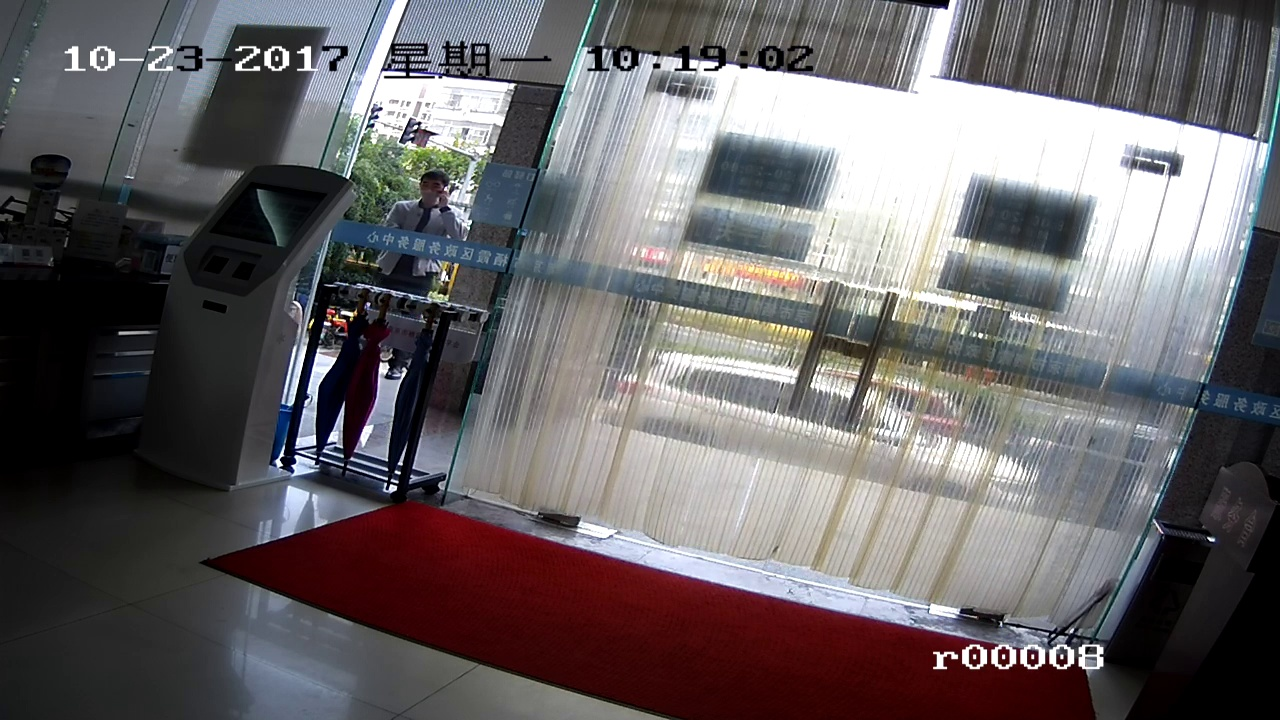monitor: (222, 176, 323, 256)
person: (399, 169, 456, 282)
